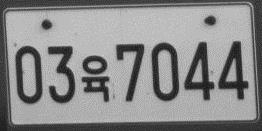0: (13, 43, 44, 103), (151, 42, 180, 101)
3: (46, 45, 76, 103)
4: (216, 40, 250, 100), (182, 41, 215, 100)
7: (114, 42, 146, 101)
육: (79, 54, 111, 103)
